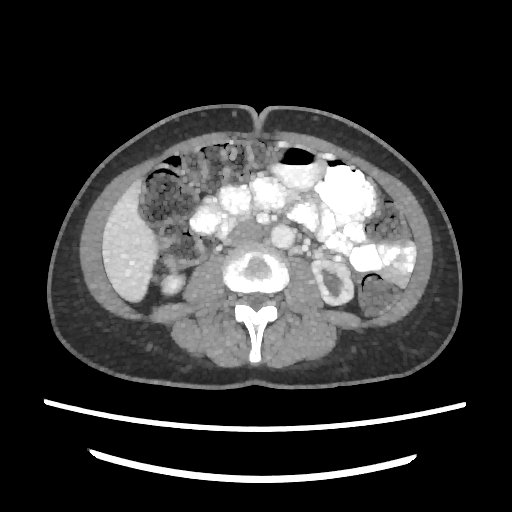Lesion: (317, 263, 348, 304)
